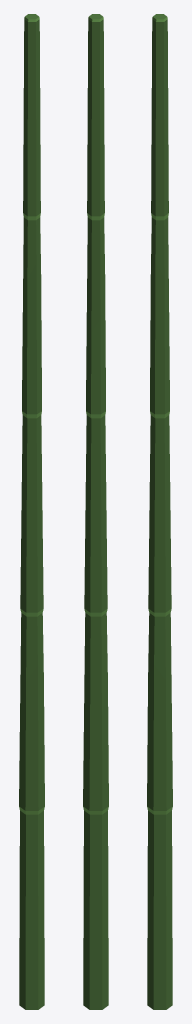
The model's file is taquara2-CortadaMSF.fbx.
3 views of the same model, side by side, from view 1: azimuth 30°, elevation 25°; view 2: azimuth 150°, elevation 25°; view 3: azimuth 330°, elevation 25° (orthographic).
Parts seen in each view (by area): view 1: bambu.003, bambu.001, bambu.004; view 2: bambu.003, bambu.001, bambu.004; view 3: bambu.003, bambu.001, bambu.004.
Part boxes in pixels (<box>): bambu.003: <box>20,263,43,708</box>; bambu.001: <box>19,665,44,1009</box>; bambu.004: <box>22,14,41,313</box>; bambu.003: <box>84,275,107,727</box>; bambu.001: <box>83,677,108,1009</box>; bambu.004: <box>86,14,105,331</box>; bambu.003: <box>148,263,171,708</box>; bambu.001: <box>147,665,172,1009</box>; bambu.004: <box>150,14,169,313</box>.
Bounding box in the file's own units: 28.79 × 1391 × 33.24.
